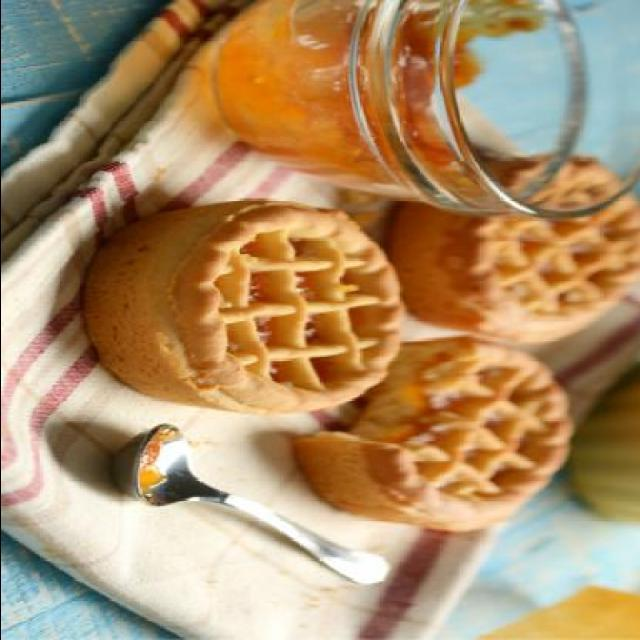Merendine packaged: (74, 200, 410, 418), (286, 334, 582, 536), (397, 152, 637, 343)
